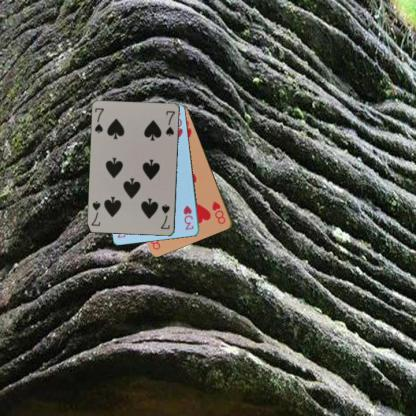3h: (181, 203, 195, 231)
7s: (158, 202, 171, 231), (93, 106, 105, 134)
8h: (210, 198, 227, 226)
